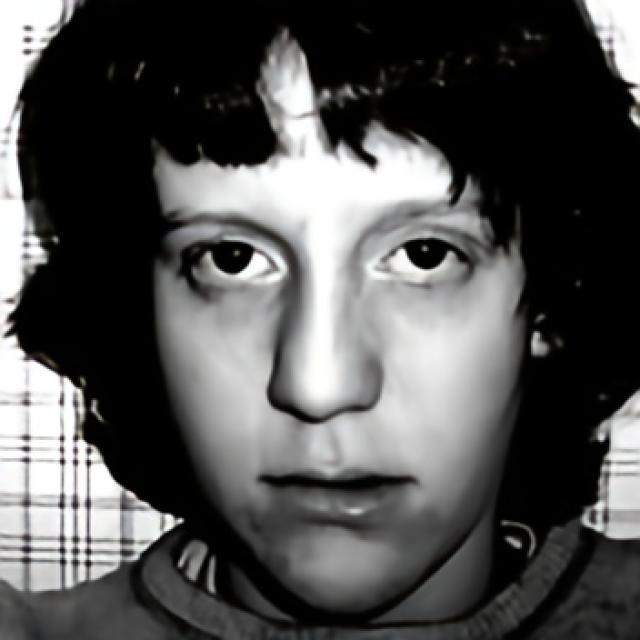neutral: (144, 30, 534, 614)
